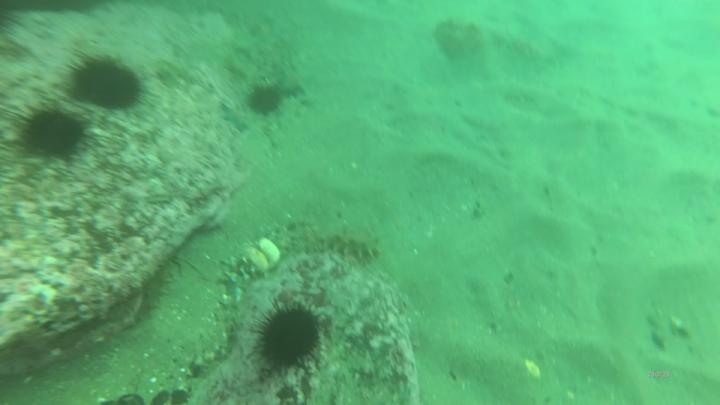echinus: (258, 302, 323, 378), (67, 56, 142, 116), (17, 108, 85, 165), (244, 82, 289, 120)
holothurian: (315, 224, 386, 265)
